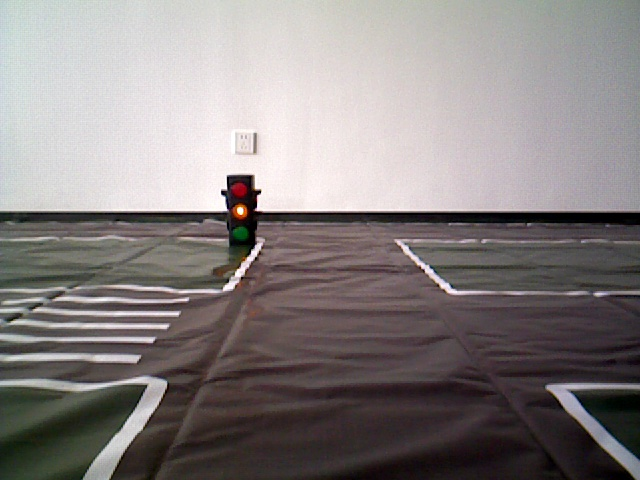yellow: (225, 175, 257, 243)
